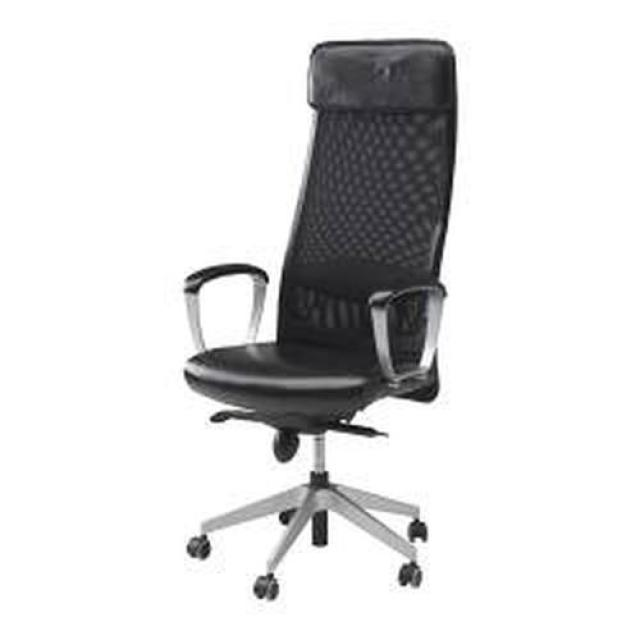swivelchair: (182, 38, 458, 603)
